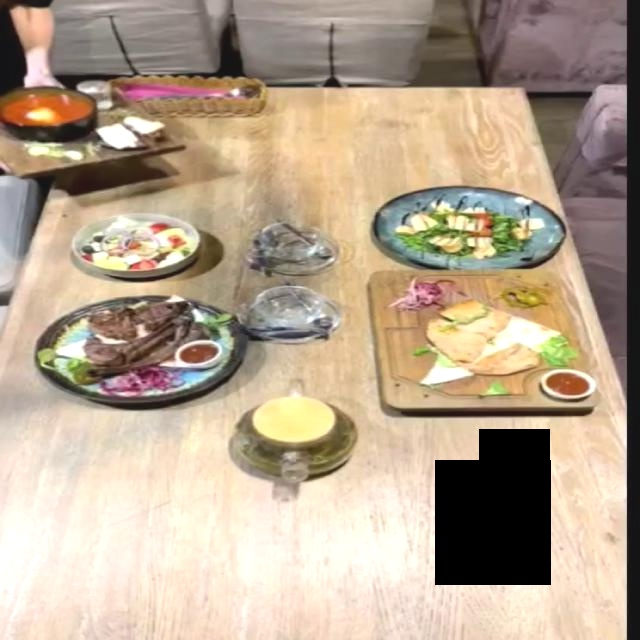meat: (361, 267, 596, 414), (33, 295, 249, 404)
salad: (375, 185, 568, 267), (70, 211, 201, 277)
soup: (0, 70, 186, 167)
tea: (229, 394, 359, 481)
